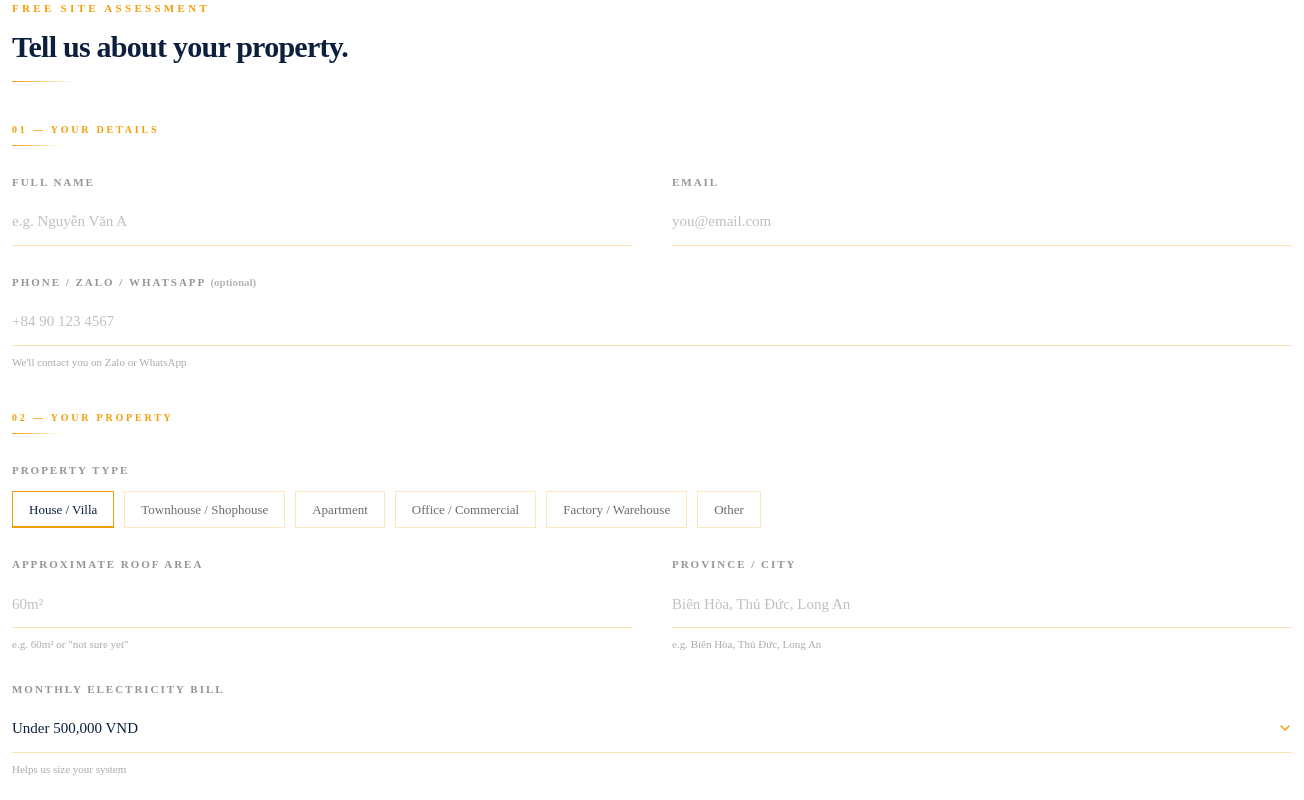
ContactForm › selects a different monthly bill option from the dropdown
What coordinates should you click on to do the following:
click the button named "Monthly electricity bill"
I would click on:
 (75, 728)
Its box is top-left (12, 705), bottom-right (1292, 752).
(page scrolled)
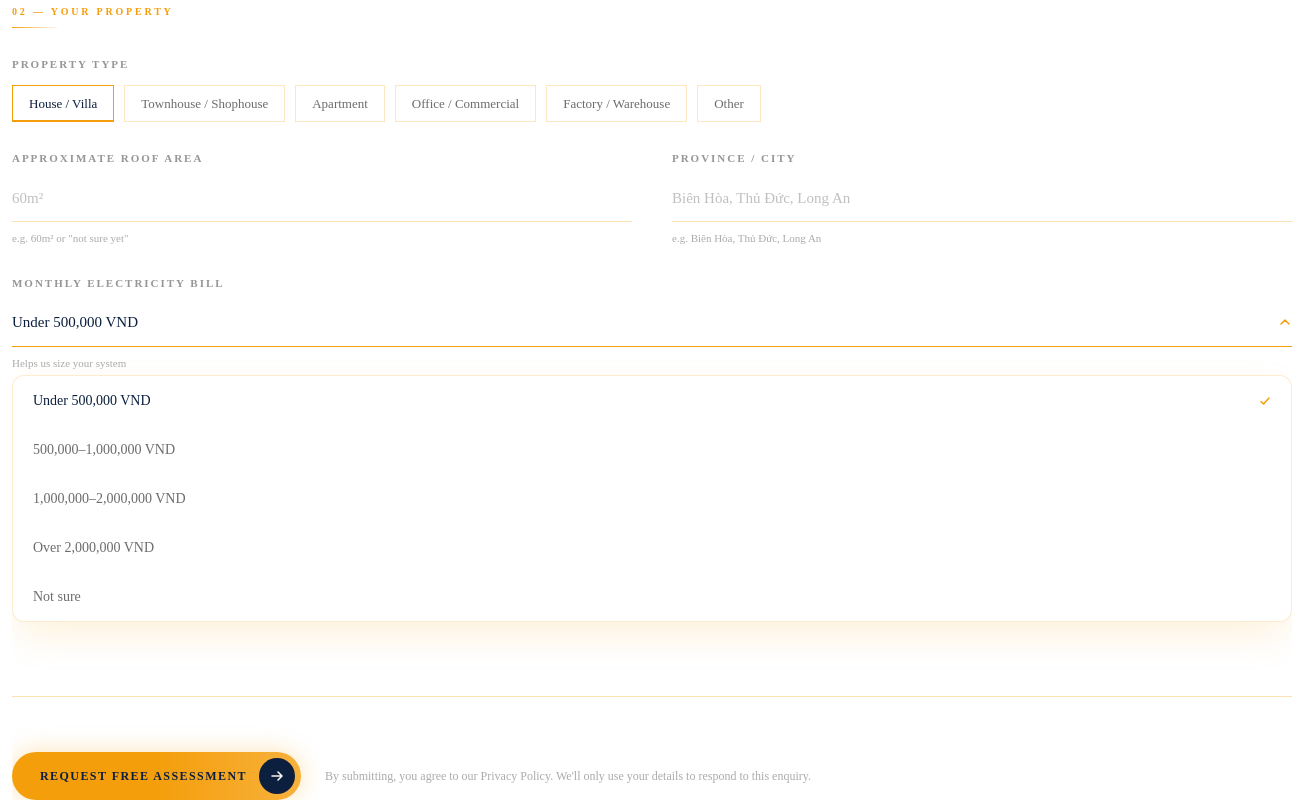
What coordinates should you click on to do the following:
click the option "Over 2,000,000 VND"
I would click on:
 (94, 548)
Its box is top-left (33, 540), bottom-right (154, 555).
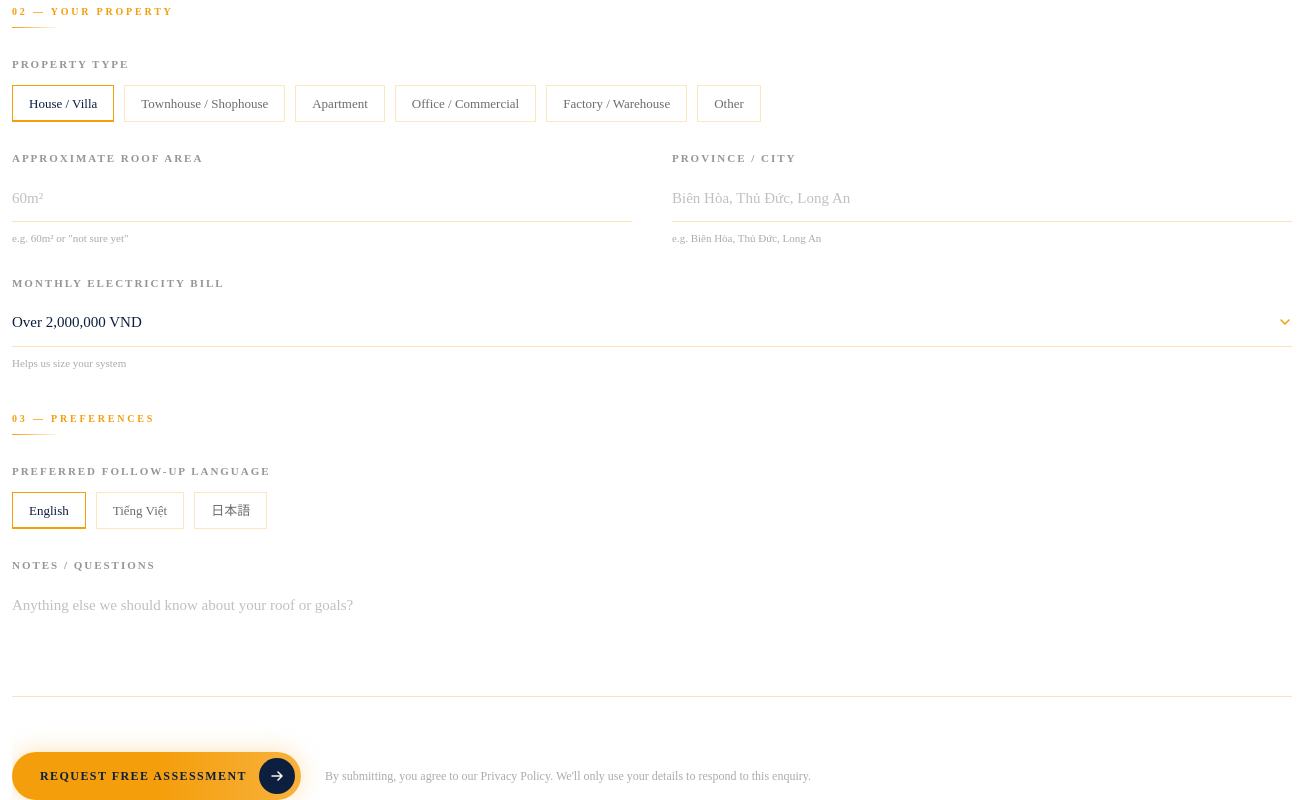
Result: the list is gone
Result: the button named "Monthly electricity bill" reads "Over 2,000,000 VND" at top-left (12, 299), bottom-right (1292, 346)
